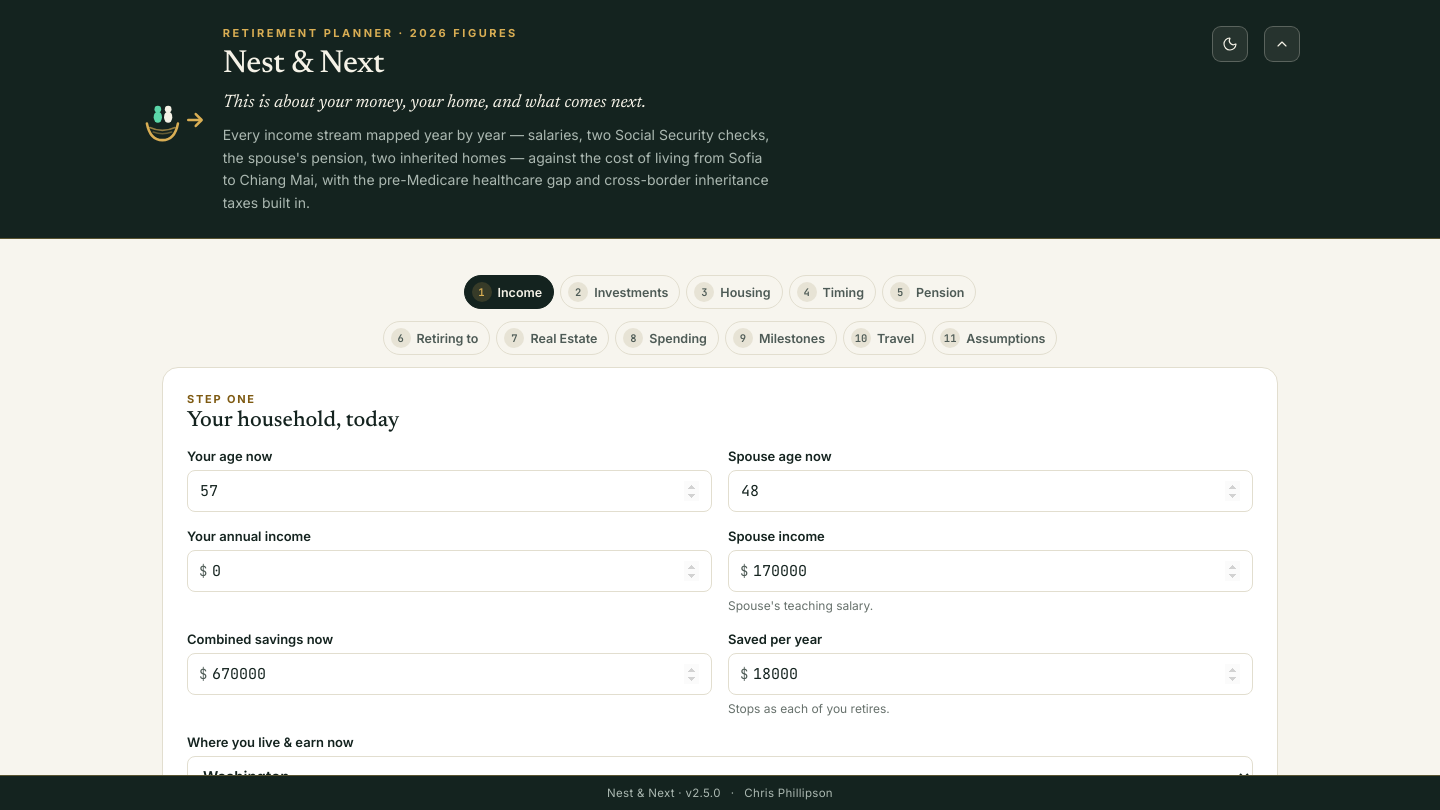
RetirementCalculator UI › prices the DRS survivor election in the pension step
Click the button "5 Pension" at (929, 292), box [882,275,976,309]
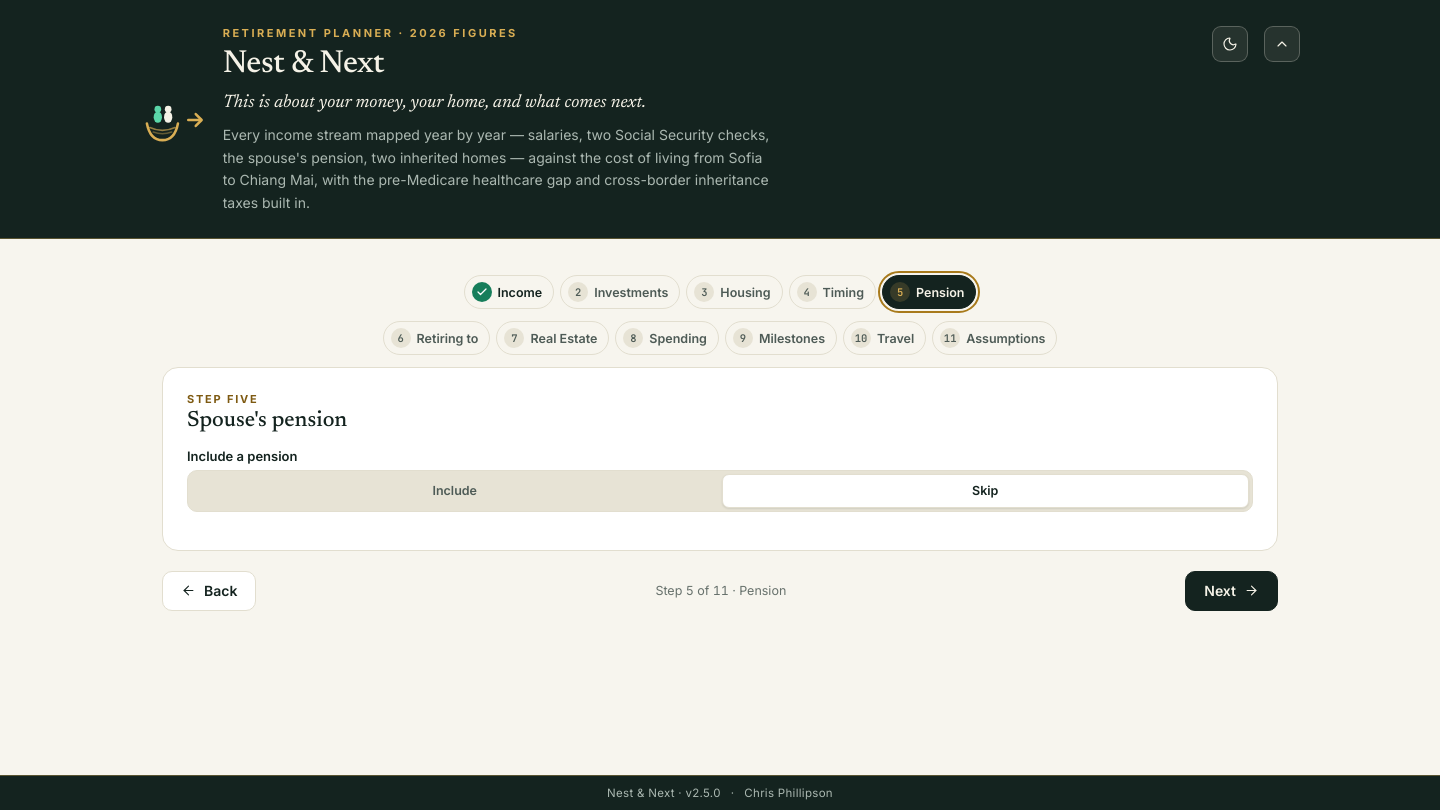
Click the button "Include" at (455, 491), box [191,474,718,508]
(page scrolled)
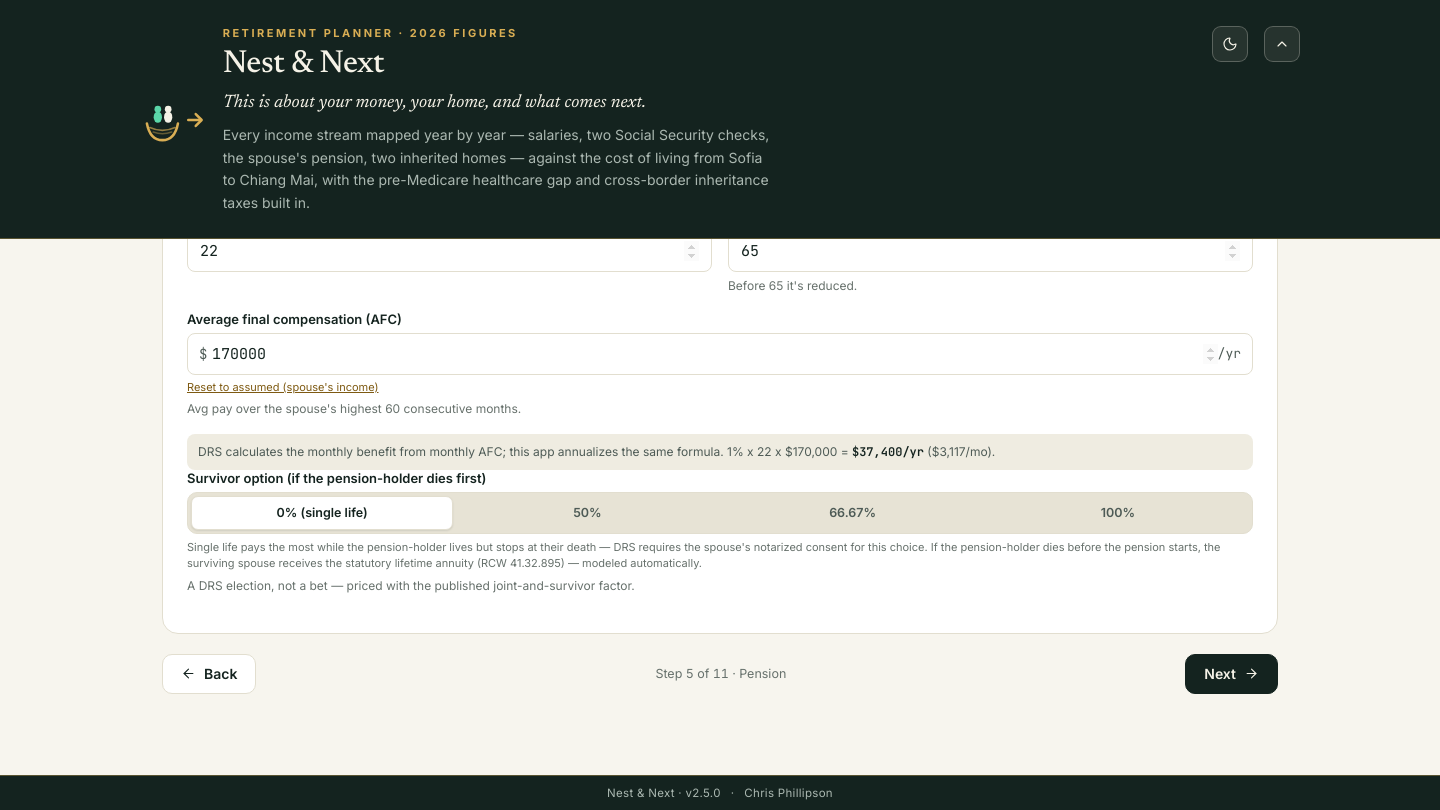
Now the text "notarized consent" is shown, box [187,540,928,554]
Note: Elect 100%: the note shows the DRS factor for the default 9-year age gap.
Click the button "100%" at (1118, 513), box [987,496,1249,530]
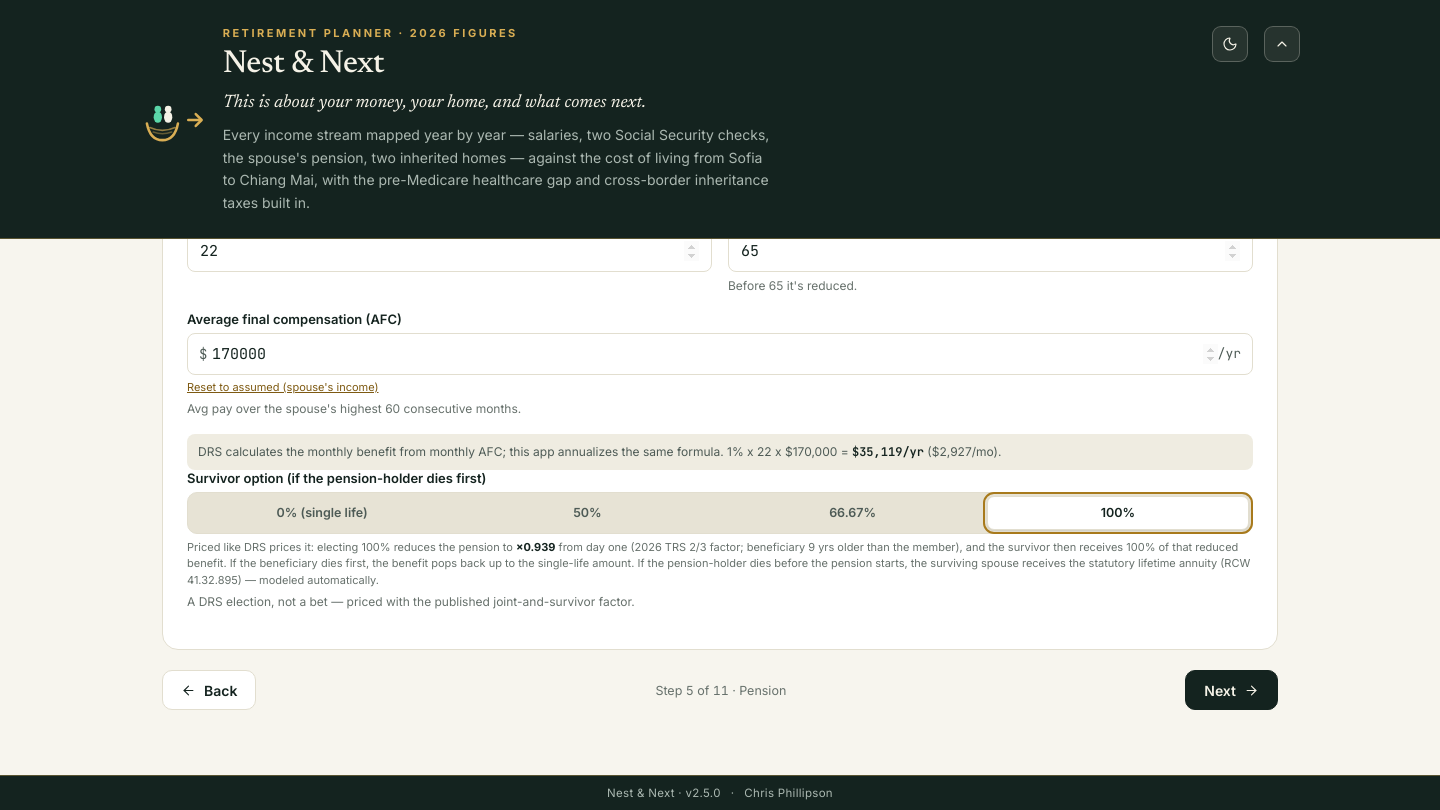
Now the text "×0.939" is shown, box [516,540,556,554]
Now the text "pops back up to the single-life amount" is shown, box [187,540,1238,570]
